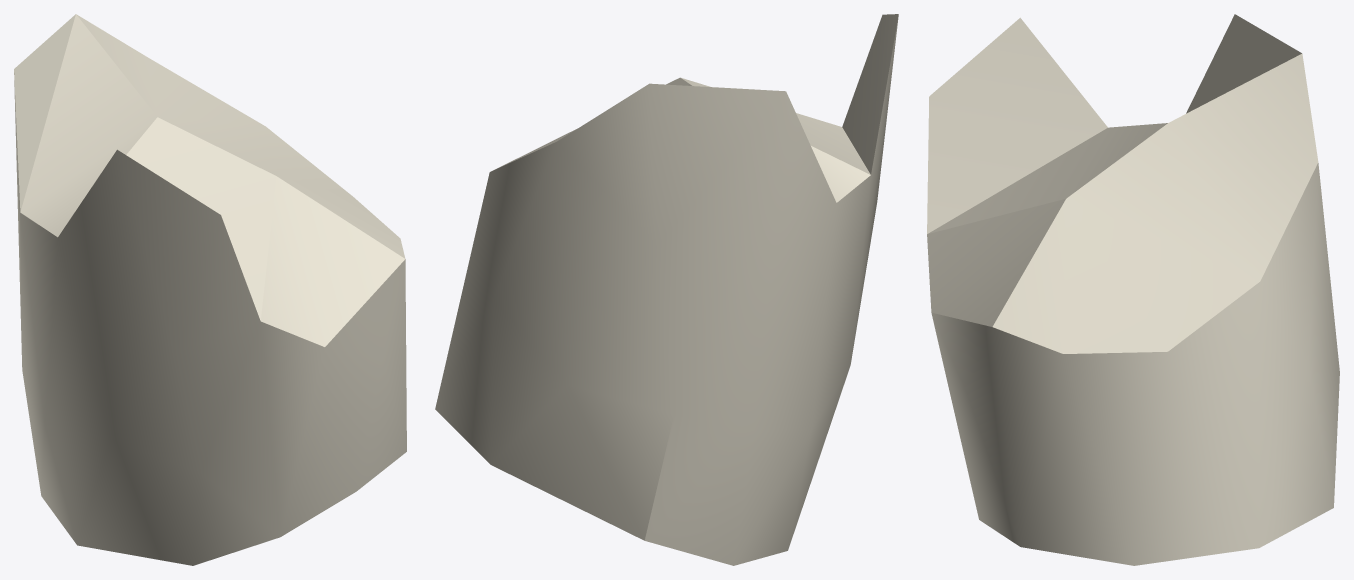
The model's file is fma60893_mm1043m.glb.
3 renders of one model, left to right at view 1: azimuth 30°, elevation 25°; view 2: azimuth 150°, elevation 25°; view 3: azimuth 270°, elevation 25°, orthographic. The views are drawn at different scales.
Parts seen in each view (by area): view 1: FMA60893_MM1043M; view 2: FMA60893_MM1043M; view 3: FMA60893_MM1043M.
Boxes of the visible parts, box(x1,y1,x2,y2) form: FMA60893_MM1043M: box(14, 14, 406, 565); FMA60893_MM1043M: box(435, 14, 898, 565); FMA60893_MM1043M: box(927, 14, 1339, 565).
Bounding box in the file's own units: 0.000937 × 0.00118 × 0.000917.
